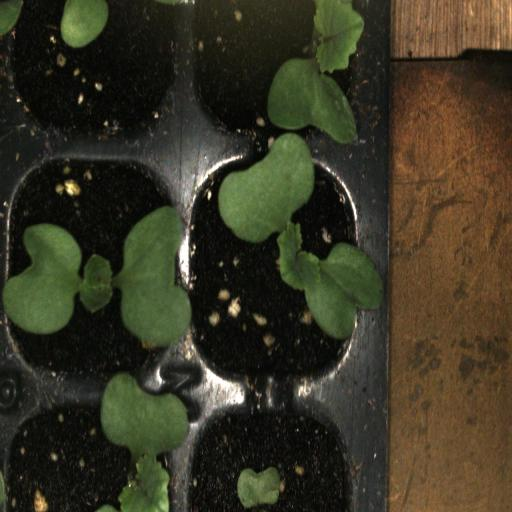seedling: (186, 144, 366, 398), (2, 146, 184, 397), (186, 0, 364, 142), (4, 399, 184, 512)
